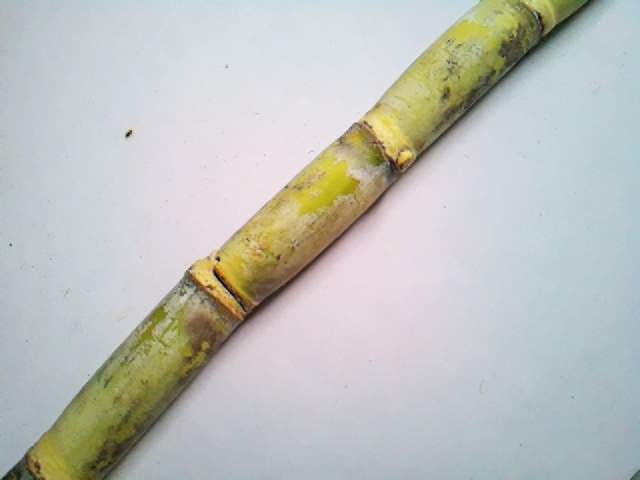Good Sugarcane: (2, 0, 591, 475)
Node: (334, 105, 424, 182), (177, 256, 254, 336)
